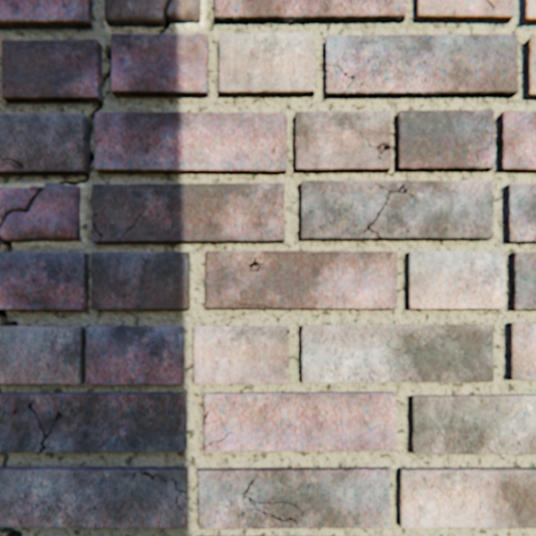brick: (325, 35, 517, 99), (95, 112, 286, 174), (199, 466, 389, 528), (0, 465, 188, 527), (93, 183, 284, 244), (204, 391, 395, 451), (300, 181, 492, 240), (301, 324, 492, 382), (0, 392, 187, 451), (206, 251, 396, 309), (398, 466, 535, 527), (409, 394, 535, 454), (3, 40, 104, 104), (111, 35, 209, 98), (396, 111, 493, 172), (219, 35, 314, 97), (295, 112, 391, 173), (92, 252, 190, 310), (87, 326, 184, 384), (406, 251, 503, 309), (0, 114, 90, 175), (194, 326, 289, 383), (0, 252, 89, 310), (0, 325, 85, 384), (215, 0, 405, 25), (0, 0, 93, 30), (414, 0, 513, 24), (497, 112, 535, 173), (503, 184, 535, 243), (506, 322, 535, 379), (508, 252, 535, 309), (523, 38, 535, 100), (520, 0, 535, 26), (197, 534, 293, 535)
broken_brick: (0, 184, 81, 242), (105, 0, 169, 28), (0, 187, 41, 224), (168, 0, 201, 24)
crack: (362, 183, 414, 238), (242, 476, 297, 523), (0, 188, 44, 230), (29, 402, 55, 452), (90, 105, 103, 149), (205, 430, 233, 450), (127, 205, 148, 231), (331, 64, 362, 80), (159, 0, 172, 35), (274, 500, 303, 511), (0, 310, 18, 325), (61, 176, 90, 185), (373, 144, 390, 159), (0, 234, 13, 252), (3, 158, 25, 168), (0, 526, 23, 535), (141, 469, 161, 478), (94, 223, 103, 242), (249, 258, 262, 271), (204, 410, 216, 424), (164, 478, 178, 489), (104, 70, 111, 86), (484, 0, 493, 11), (2, 451, 9, 464), (90, 151, 94, 172), (55, 409, 61, 421), (256, 304, 273, 308), (106, 50, 112, 61), (365, 138, 371, 147), (239, 303, 254, 305)
